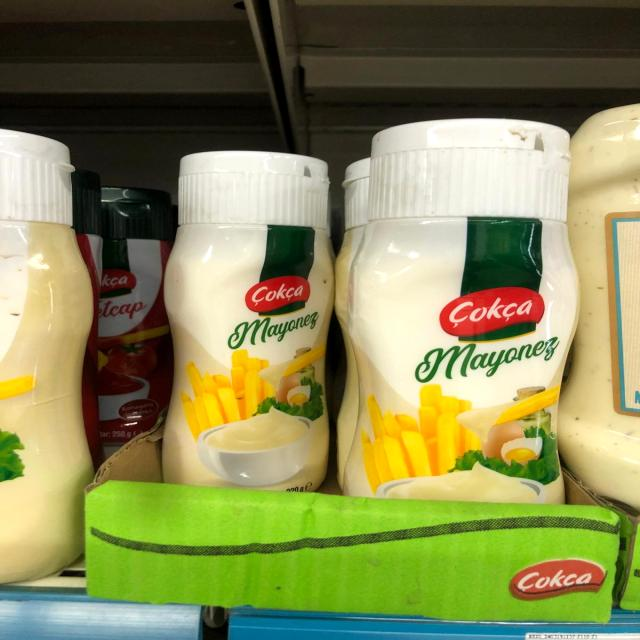mayonnaise: (347, 117, 585, 506), (158, 149, 342, 490)
